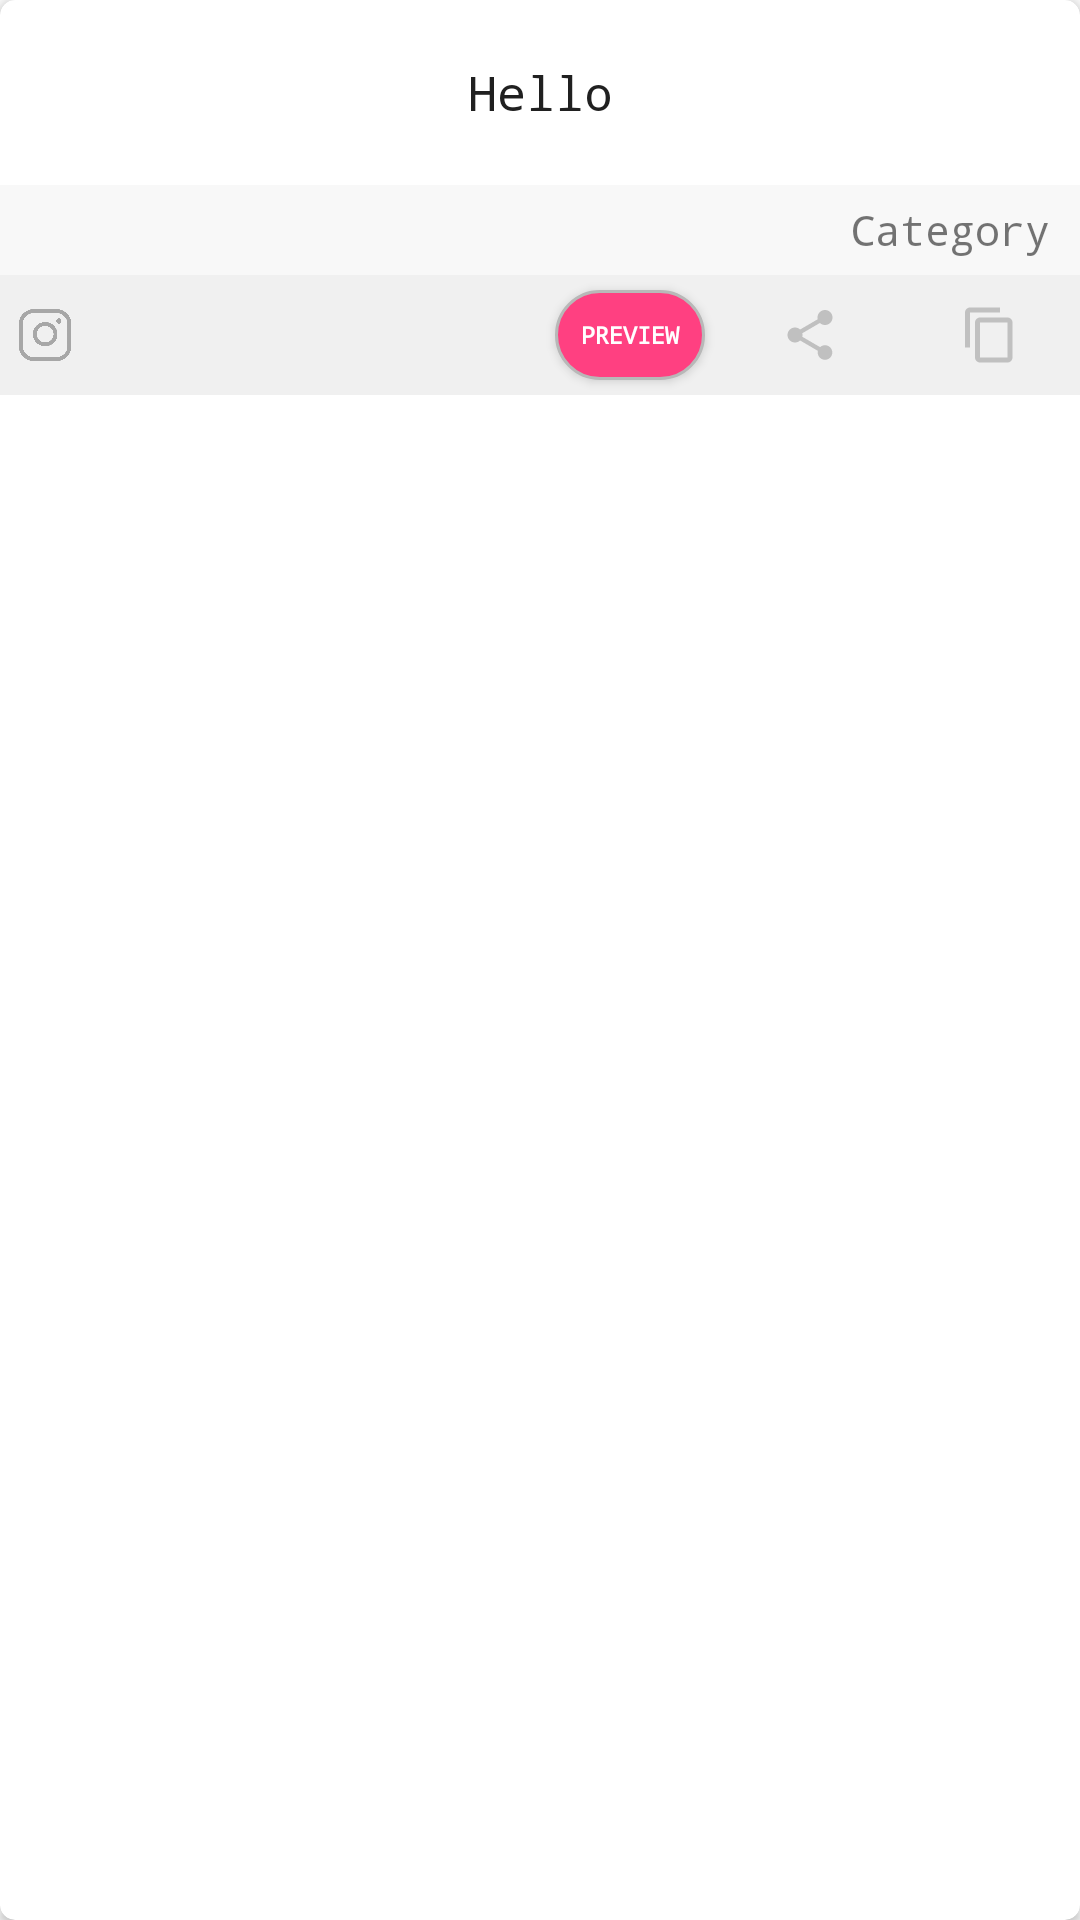

Screen size 1080w x 1920h. Icon name, then its box in pixels as (x1, y1, x2, y2):
share: (788, 310, 832, 360)
